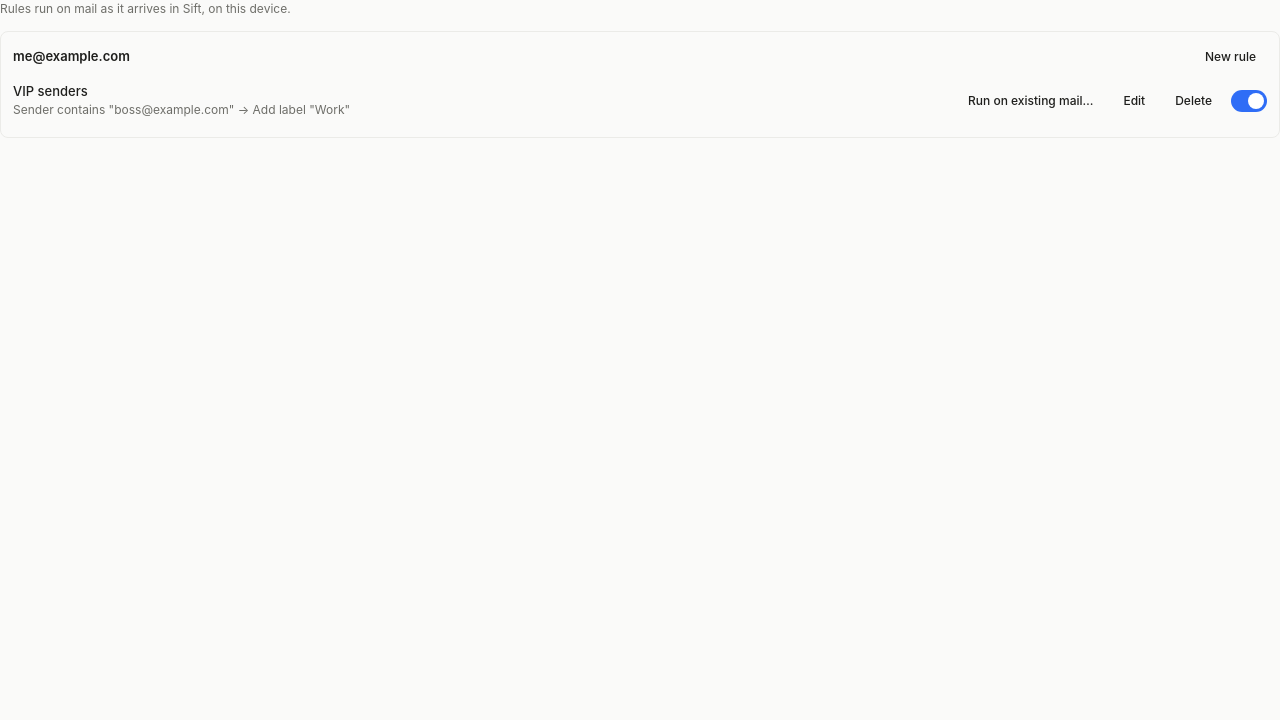
Test: Settings -> Rules (P8.3) › previews before applying and never applies a rule that matches nothing
Expected: the text "VIP senders" is shown, [13,83,88,99]
Click the button "Run on existing mail…" at [1031, 100], box [957,86,1104,114]
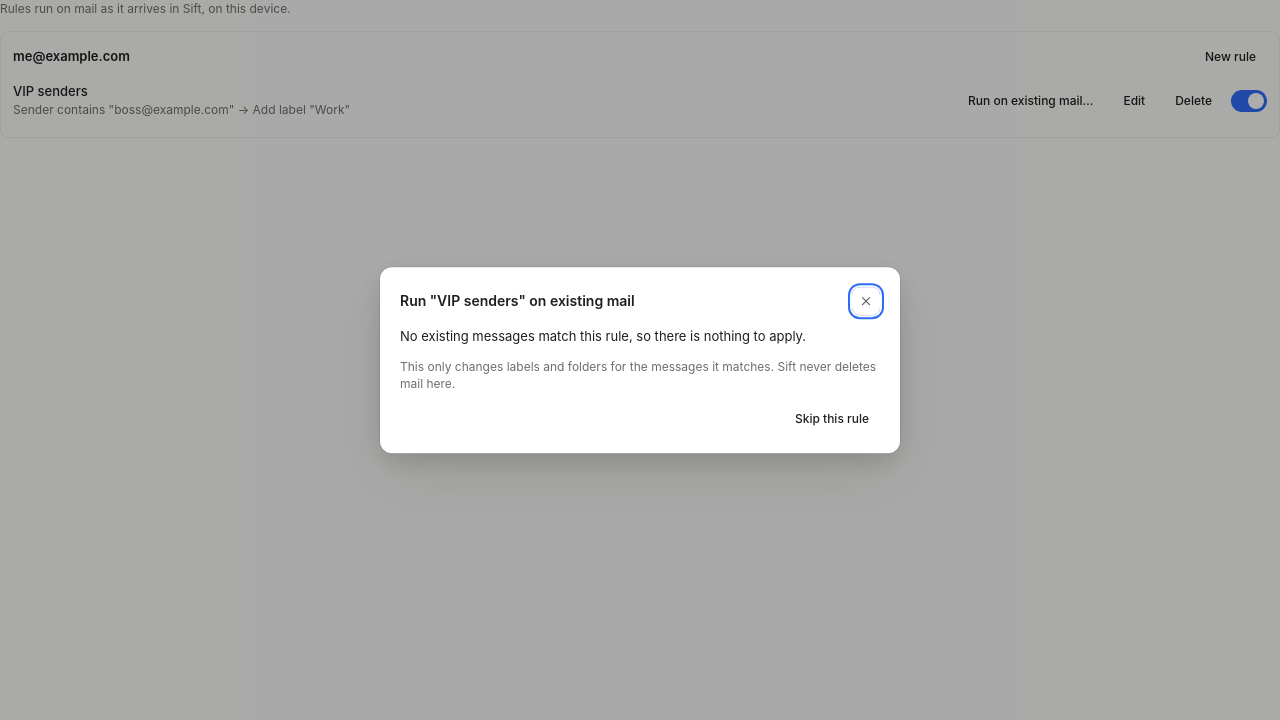
Now the text "No existing messages match this rule" is shown, box [400,328,806,344]
Now the text "Sift never deletes mail here" is shown, box [400,359,876,391]
